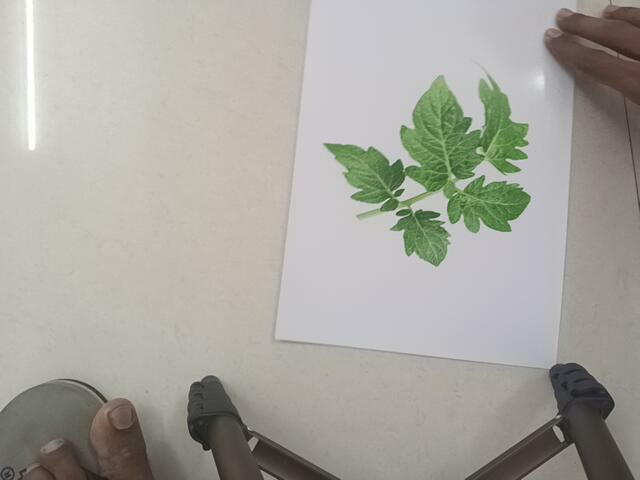Tomamto_Leaf_Healthy: (316, 76, 533, 258)
